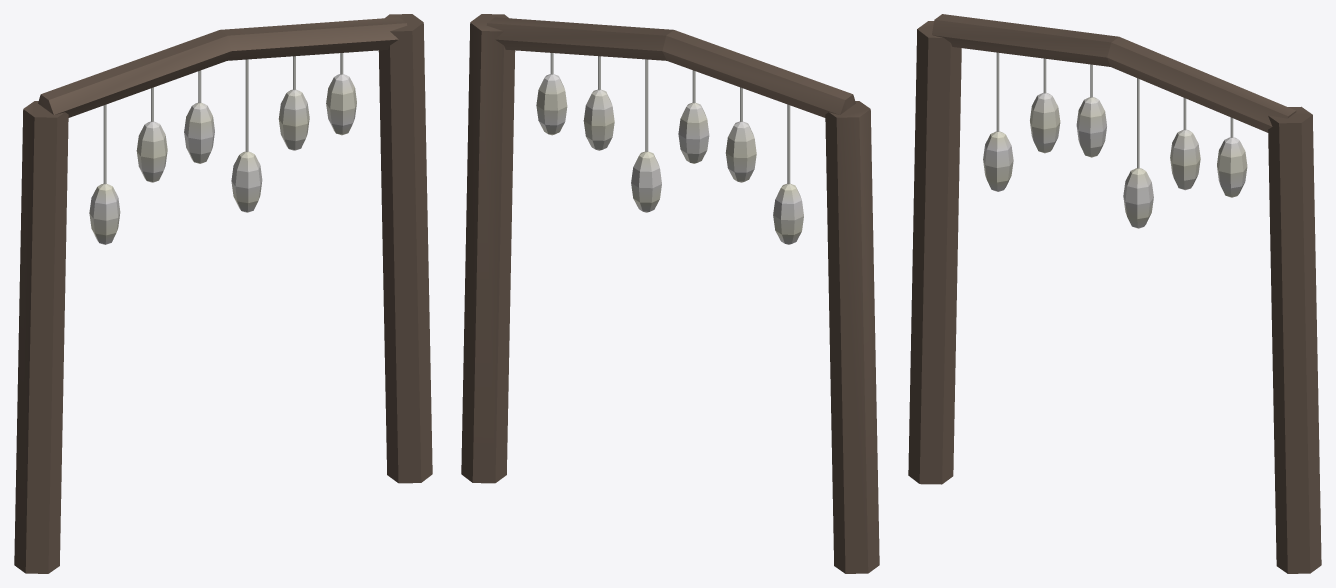
Rendered from Thread_Cocoons.fbx.
3 renders of one model, left to right at view 1: azimuth 30°, elevation 25°; view 2: azimuth 150°, elevation 25°; view 3: azimuth 330°, elevation 25°, orthographic.
Parts seen in each view (by area): view 1: Res_Thread_Cocoons; view 2: Res_Thread_Cocoons; view 3: Res_Thread_Cocoons.
Part boxes in pixels (bbox=[...]): Res_Thread_Cocoons: bbox=[14, 14, 432, 573]; Res_Thread_Cocoons: bbox=[461, 14, 879, 573]; Res_Thread_Cocoons: bbox=[908, 14, 1321, 573].
Bounding box in the file's own units: 2.06 × 2.36 × 0.2.
